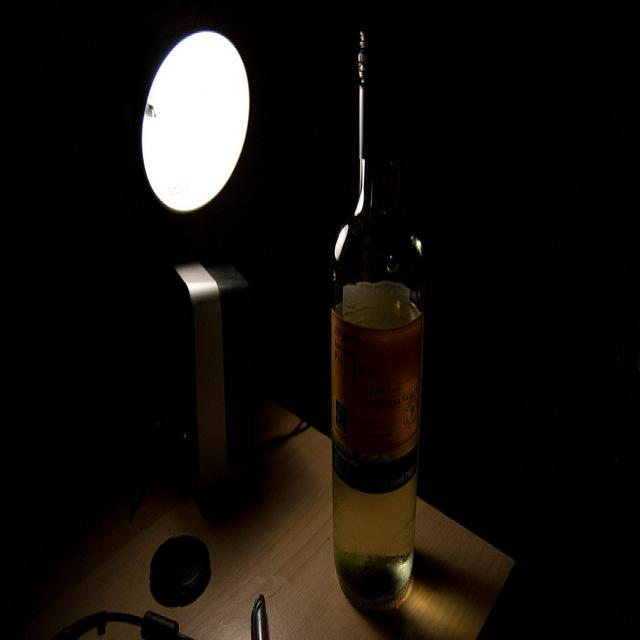Bottle: (318, 24, 425, 610)
